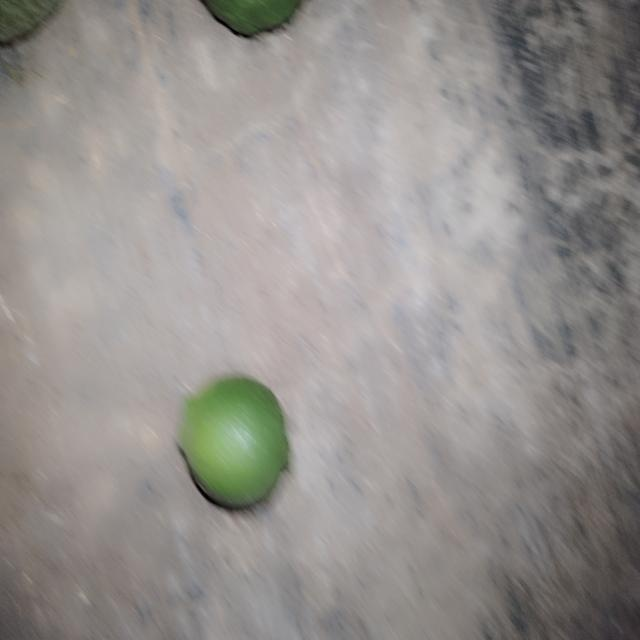agrume: (177, 363, 298, 527)
